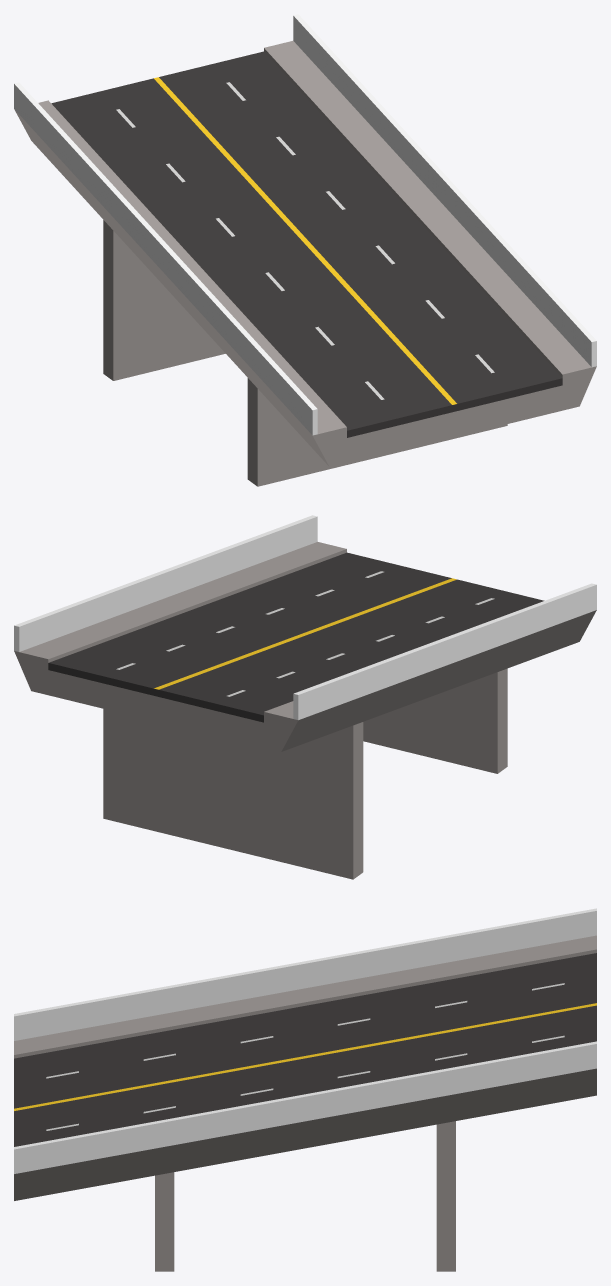
Rendered from bridge-mainroad-hill.glb.
3 renders of one model, top to bottom at view 1: azimuth 30°, elevation 25°; view 2: azimuth 150°, elevation 25°; view 3: azimuth 270°, elevation 25°, orthographic. The views are drawn at different scales.
Visible parts, largest first — view 1: bridge-mainroad-hill; view 2: bridge-mainroad-hill; view 3: bridge-mainroad-hill.
Part boxes in pixels (left/top/right/bottom): bridge-mainroad-hill: left=14, top=14, right=596, bottom=486; bridge-mainroad-hill: left=14, top=515, right=596, bottom=879; bridge-mainroad-hill: left=14, top=908, right=596, bottom=1271.
Bounding box in the file's own units: 16.5 × 13.4 × 30.
Materials: 1 (1 with a texture image).
